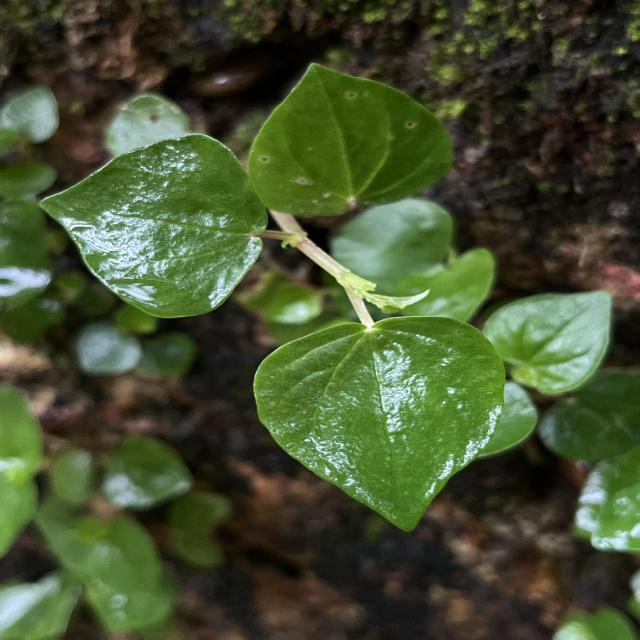Peperomia pellucida: (248, 311, 508, 536), (39, 128, 272, 322)
